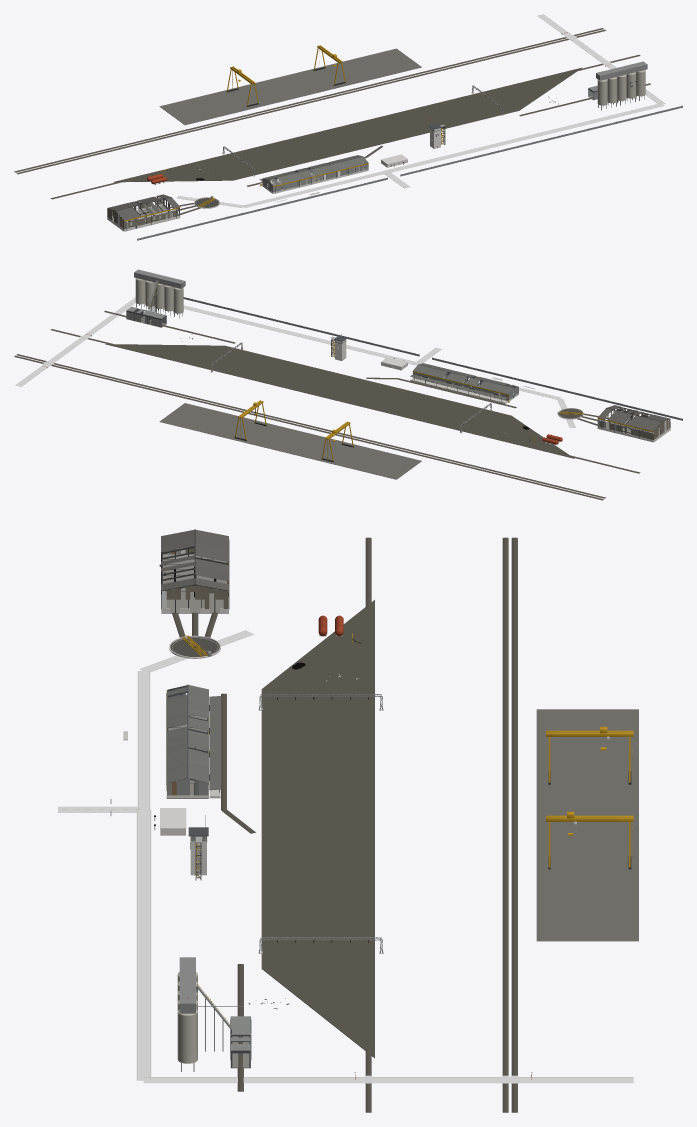
The model's file is freight-yard.glb.
3 renders of one model, top to bottom at view 1: azimuth 30°, elevation 25°; view 2: azimuth 150°, elevation 25°; view 3: azimuth 270°, elevation 25°, orthographic. The views are drawn at different scales.
Parts seen in each view (by area): view 1: C0_0_lod0, C0_1_lod0, C-2_-2_lod0, C-1_-2_lod0, C2_-2_lod0, C-4_-2_lod0, C3_-2_lod0, C0_-2_lod0, C1_-2_lod0, C-3_-2_lod0, C3_0_lod0, C-4_-1_lod0 (+1 smaller); view 2: C0_0_lod0, C0_1_lod0, C-2_-2_lod0, C-4_-1_lod0, C-1_-1_lod0, C3_-2_lod0, C2_-2_lod0, C-1_-2_lod0, C3_0_lod0, C3_-1_lod0, C-4_-2_lod0, C0_-2_lod0 (+4 smaller); view 3: C0_0_lod0, C0_1_lod0, C-2_-2_lod0, C-1_-2_lod0, C2_-2_lod0, C3_0_lod0, C-4_-2_lod0, C-3_-2_lod0, C0_-2_lod0, C-1_-1_lod0, C3_-2_lod0, C-4_-1_lod0 (+3 smaller).
Part boxes in pixels (left/top/right/bottom): C0_0_lod0: left=14, top=28, right=606, bottom=182; C0_1_lod0: left=159, top=45, right=421, bottom=125; C-2_-2_lod0: left=137, top=167, right=387, bottom=240; C-1_-2_lod0: left=264, top=155, right=409, bottom=193; C2_-2_lod0: left=447, top=77, right=664, bottom=157; C-4_-2_lod0: left=107, top=197, right=180, bottom=237; C3_-2_lod0: left=596, top=61, right=682, bottom=114; C0_-2_lod0: left=381, top=123, right=482, bottom=172; C1_-2_lod0: left=400, top=106, right=682, bottom=176; C-3_-2_lod0: left=159, top=195, right=243, bottom=226; C3_0_lod0: left=537, top=14, right=665, bottom=104; C-4_-1_lod0: left=51, top=180, right=162, bottom=220; C0_0_lod0: left=14, top=344, right=605, bottom=500; C0_1_lod0: left=159, top=400, right=421, bottom=479; C-2_-2_lod0: left=416, top=358, right=682, bottom=420; C-4_-1_lod0: left=567, top=410, right=661, bottom=473; C-1_-1_lod0: left=366, top=371, right=516, bottom=408; C3_-2_lod0: left=128, top=269, right=185, bottom=313; C2_-2_lod0: left=164, top=285, right=355, bottom=349; C-1_-2_lod0: left=392, top=347, right=518, bottom=400; C3_0_lod0: left=15, top=297, right=135, bottom=386; C3_-1_lod0: left=51, top=280, right=166, bottom=345; C-4_-2_lod0: left=598, top=408, right=682, bottom=442; C0_-2_lod0: left=331, top=336, right=418, bottom=368; C0_0_lod0: left=261, top=537, right=550, bottom=1112; C0_1_lod0: left=536, top=709, right=638, bottom=941; C-2_-2_lod0: left=123, top=671, right=208, bottom=809; C-1_-2_lod0: left=58, top=684, right=208, bottom=820; C2_-2_lod0: left=136, top=871, right=197, bottom=1080; C3_0_lod0: left=143, top=1072, right=633, bottom=1083; C-4_-2_lod0: left=159, top=529, right=228, bottom=613; C-3_-2_lod0: left=140, top=578, right=253, bottom=672; C0_-2_lod0: left=136, top=808, right=208, bottom=880; C-1_-1_lod0: left=203, top=693, right=255, bottom=833; C3_-2_lod0: left=177, top=957, right=202, bottom=1071; C-4_-1_lod0: left=195, top=530, right=371, bottom=612.
Size of what is drawn, in the model's own units: 744 by 44.43 by 318.
